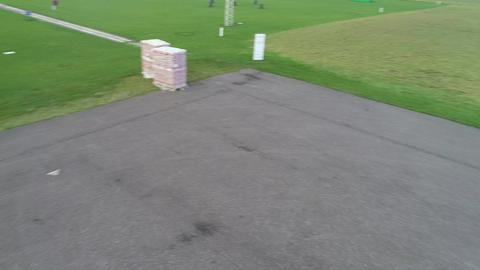RockwoolPallet: (136, 38, 168, 80)
